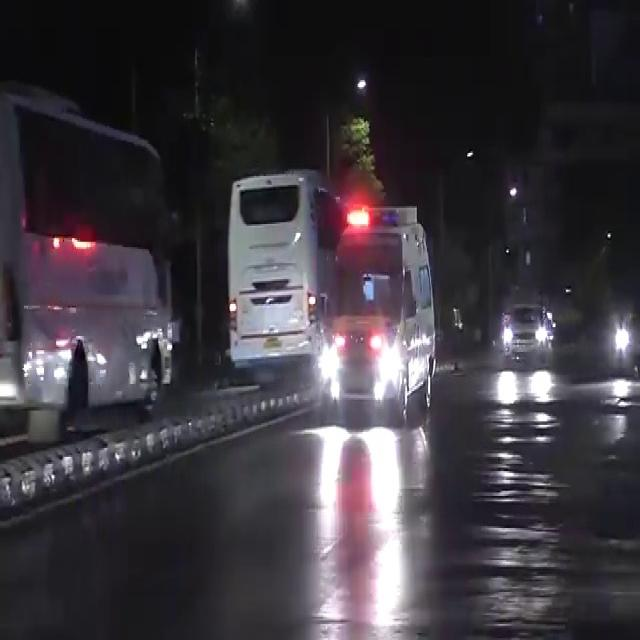ambulance: (318, 202, 447, 414)
